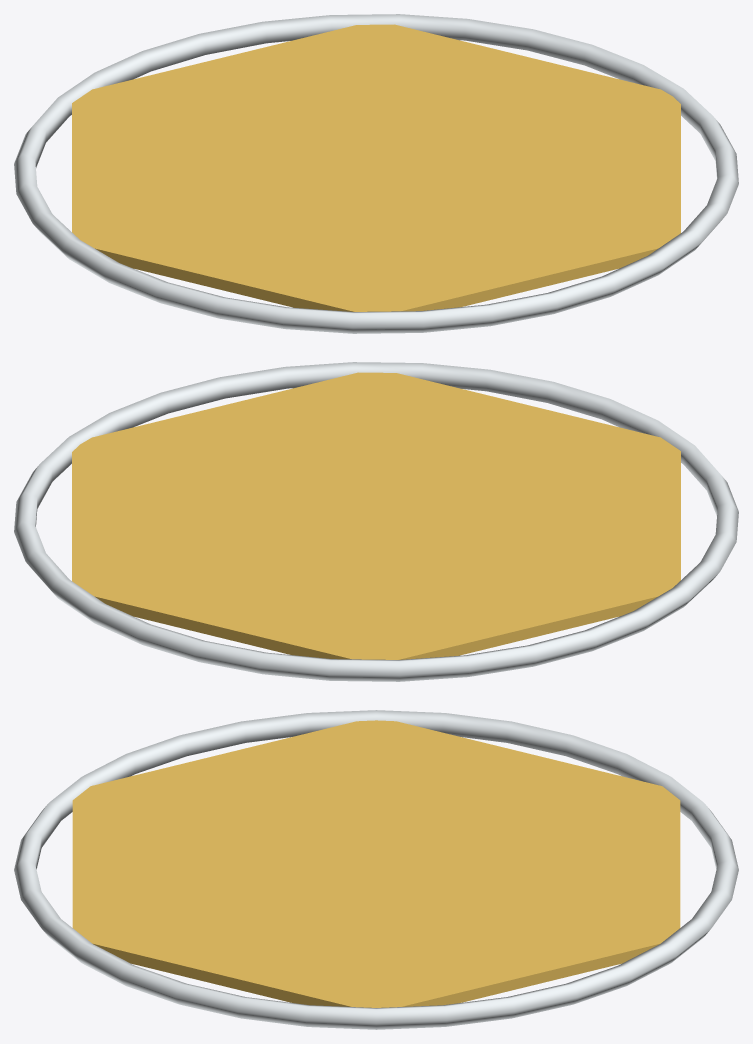
3 views of the same model, one above another, from view 1: azimuth 30°, elevation 25°; view 2: azimuth 150°, elevation 25°; view 3: azimuth 270°, elevation 25° (orthographic).
Parts seen in each view (by area): view 1: Cylinder001, Torus001; view 2: Cylinder001, Torus001; view 3: Cylinder001, Torus001.
Boxes of the visible parts, x1,y1,x2,y2 form: Cylinder001: [72, 24, 680, 311]; Torus001: [14, 14, 738, 333]; Cylinder001: [72, 372, 680, 659]; Torus001: [14, 362, 738, 681]; Cylinder001: [72, 720, 680, 1007]; Torus001: [14, 710, 738, 1029].
Bounding box in the file's own units: 6.2 × 0.1902 × 6.2.
